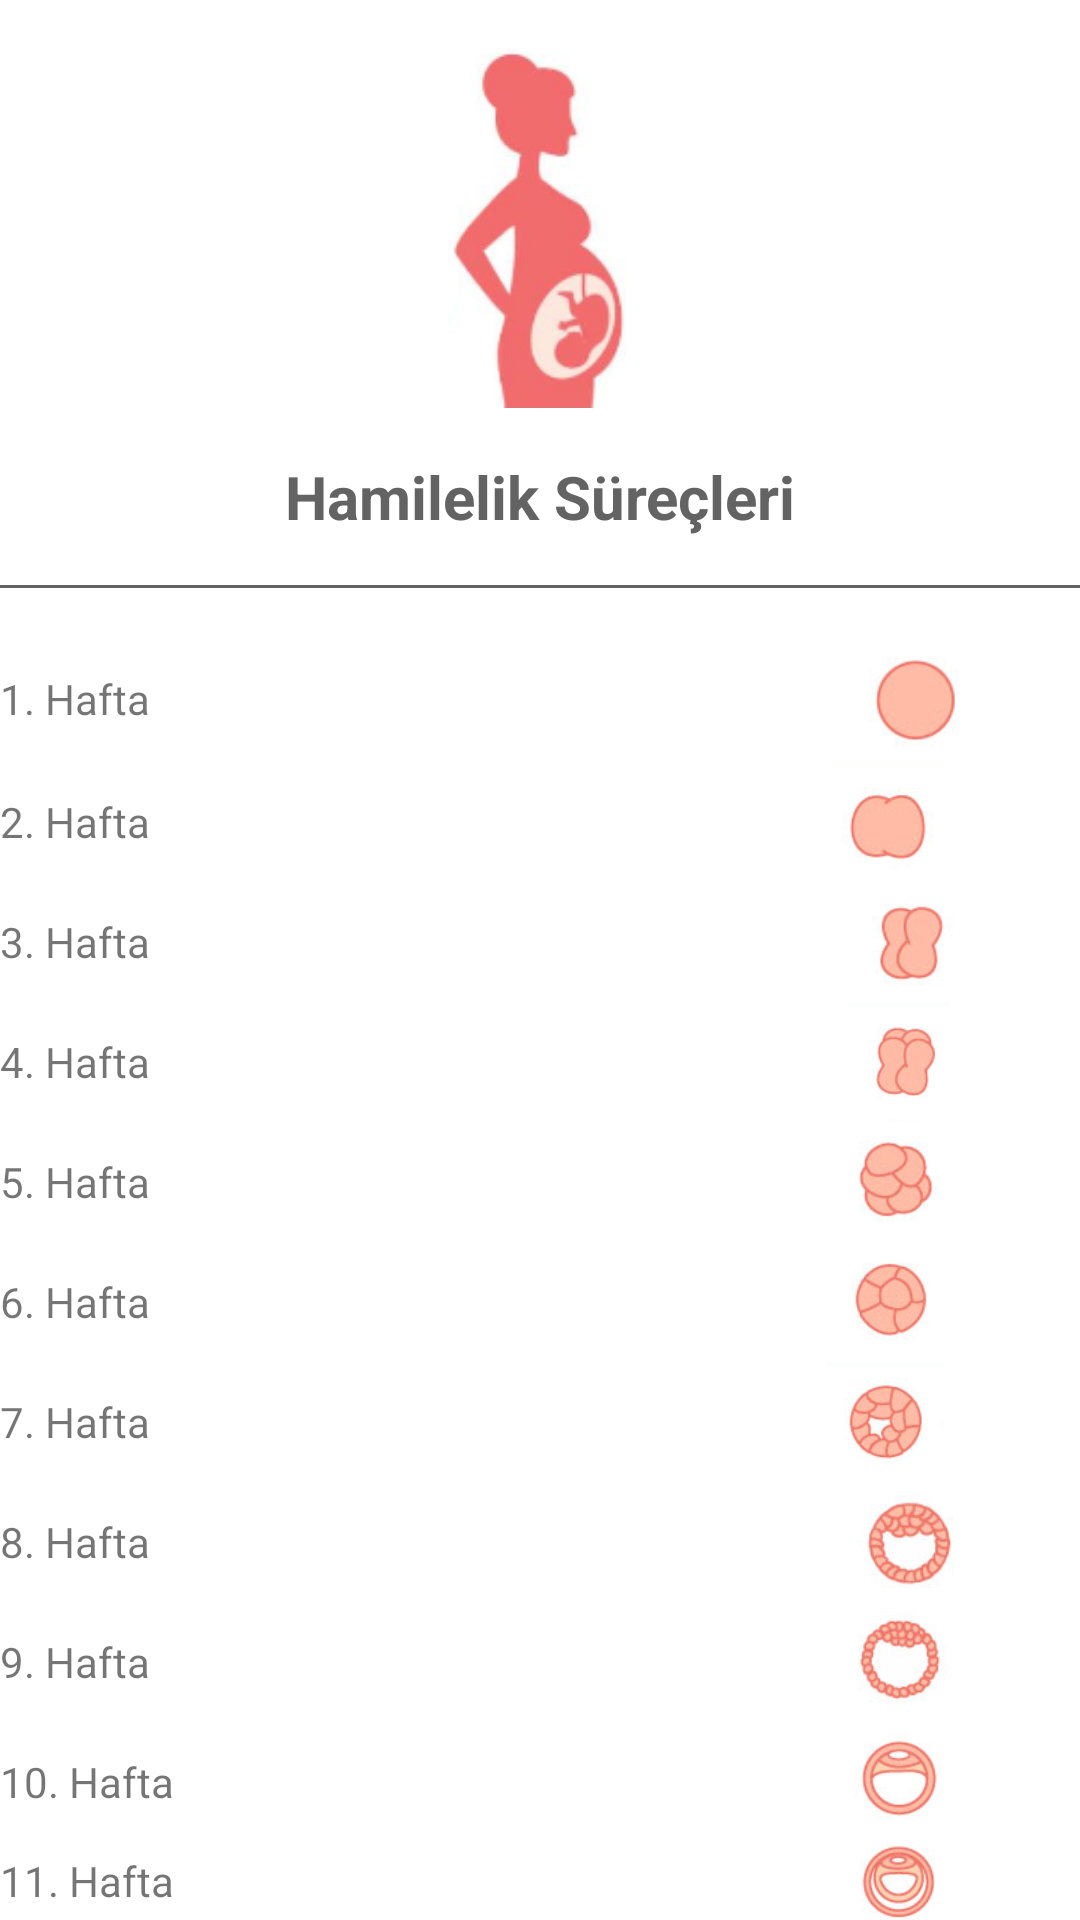

Where icons sit on this 1080*1920 app screen, as (x1, y1, x2, y2):
alti: (855, 1264, 927, 1336)
anne: (454, 53, 623, 408)
bes: (859, 1142, 932, 1217)
dokuz: (860, 1620, 940, 1699)
dort: (876, 1027, 935, 1096)
ikincihafta: (850, 795, 926, 859)
sekiz: (868, 1502, 951, 1584)
ucuncu: (880, 906, 943, 980)
yedinci: (849, 1385, 922, 1459)
